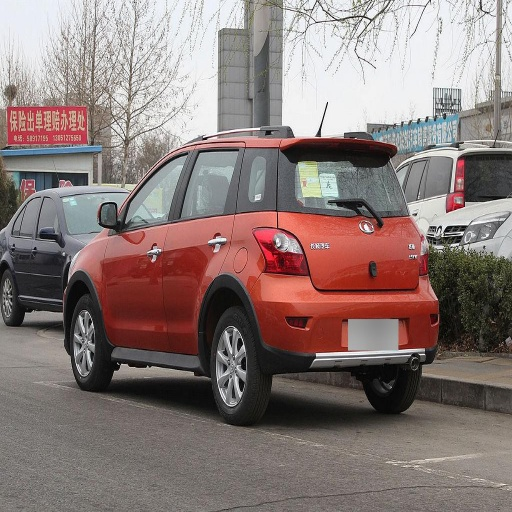_background_: (0, 0, 511, 511)
back_bumper: (253, 276, 438, 370)
back_glass: (282, 145, 402, 211)
back_left_door: (163, 145, 239, 350)
back_left_light: (254, 228, 308, 273)
back_right_door: (12, 203, 37, 293)
trunk: (281, 214, 421, 293)
